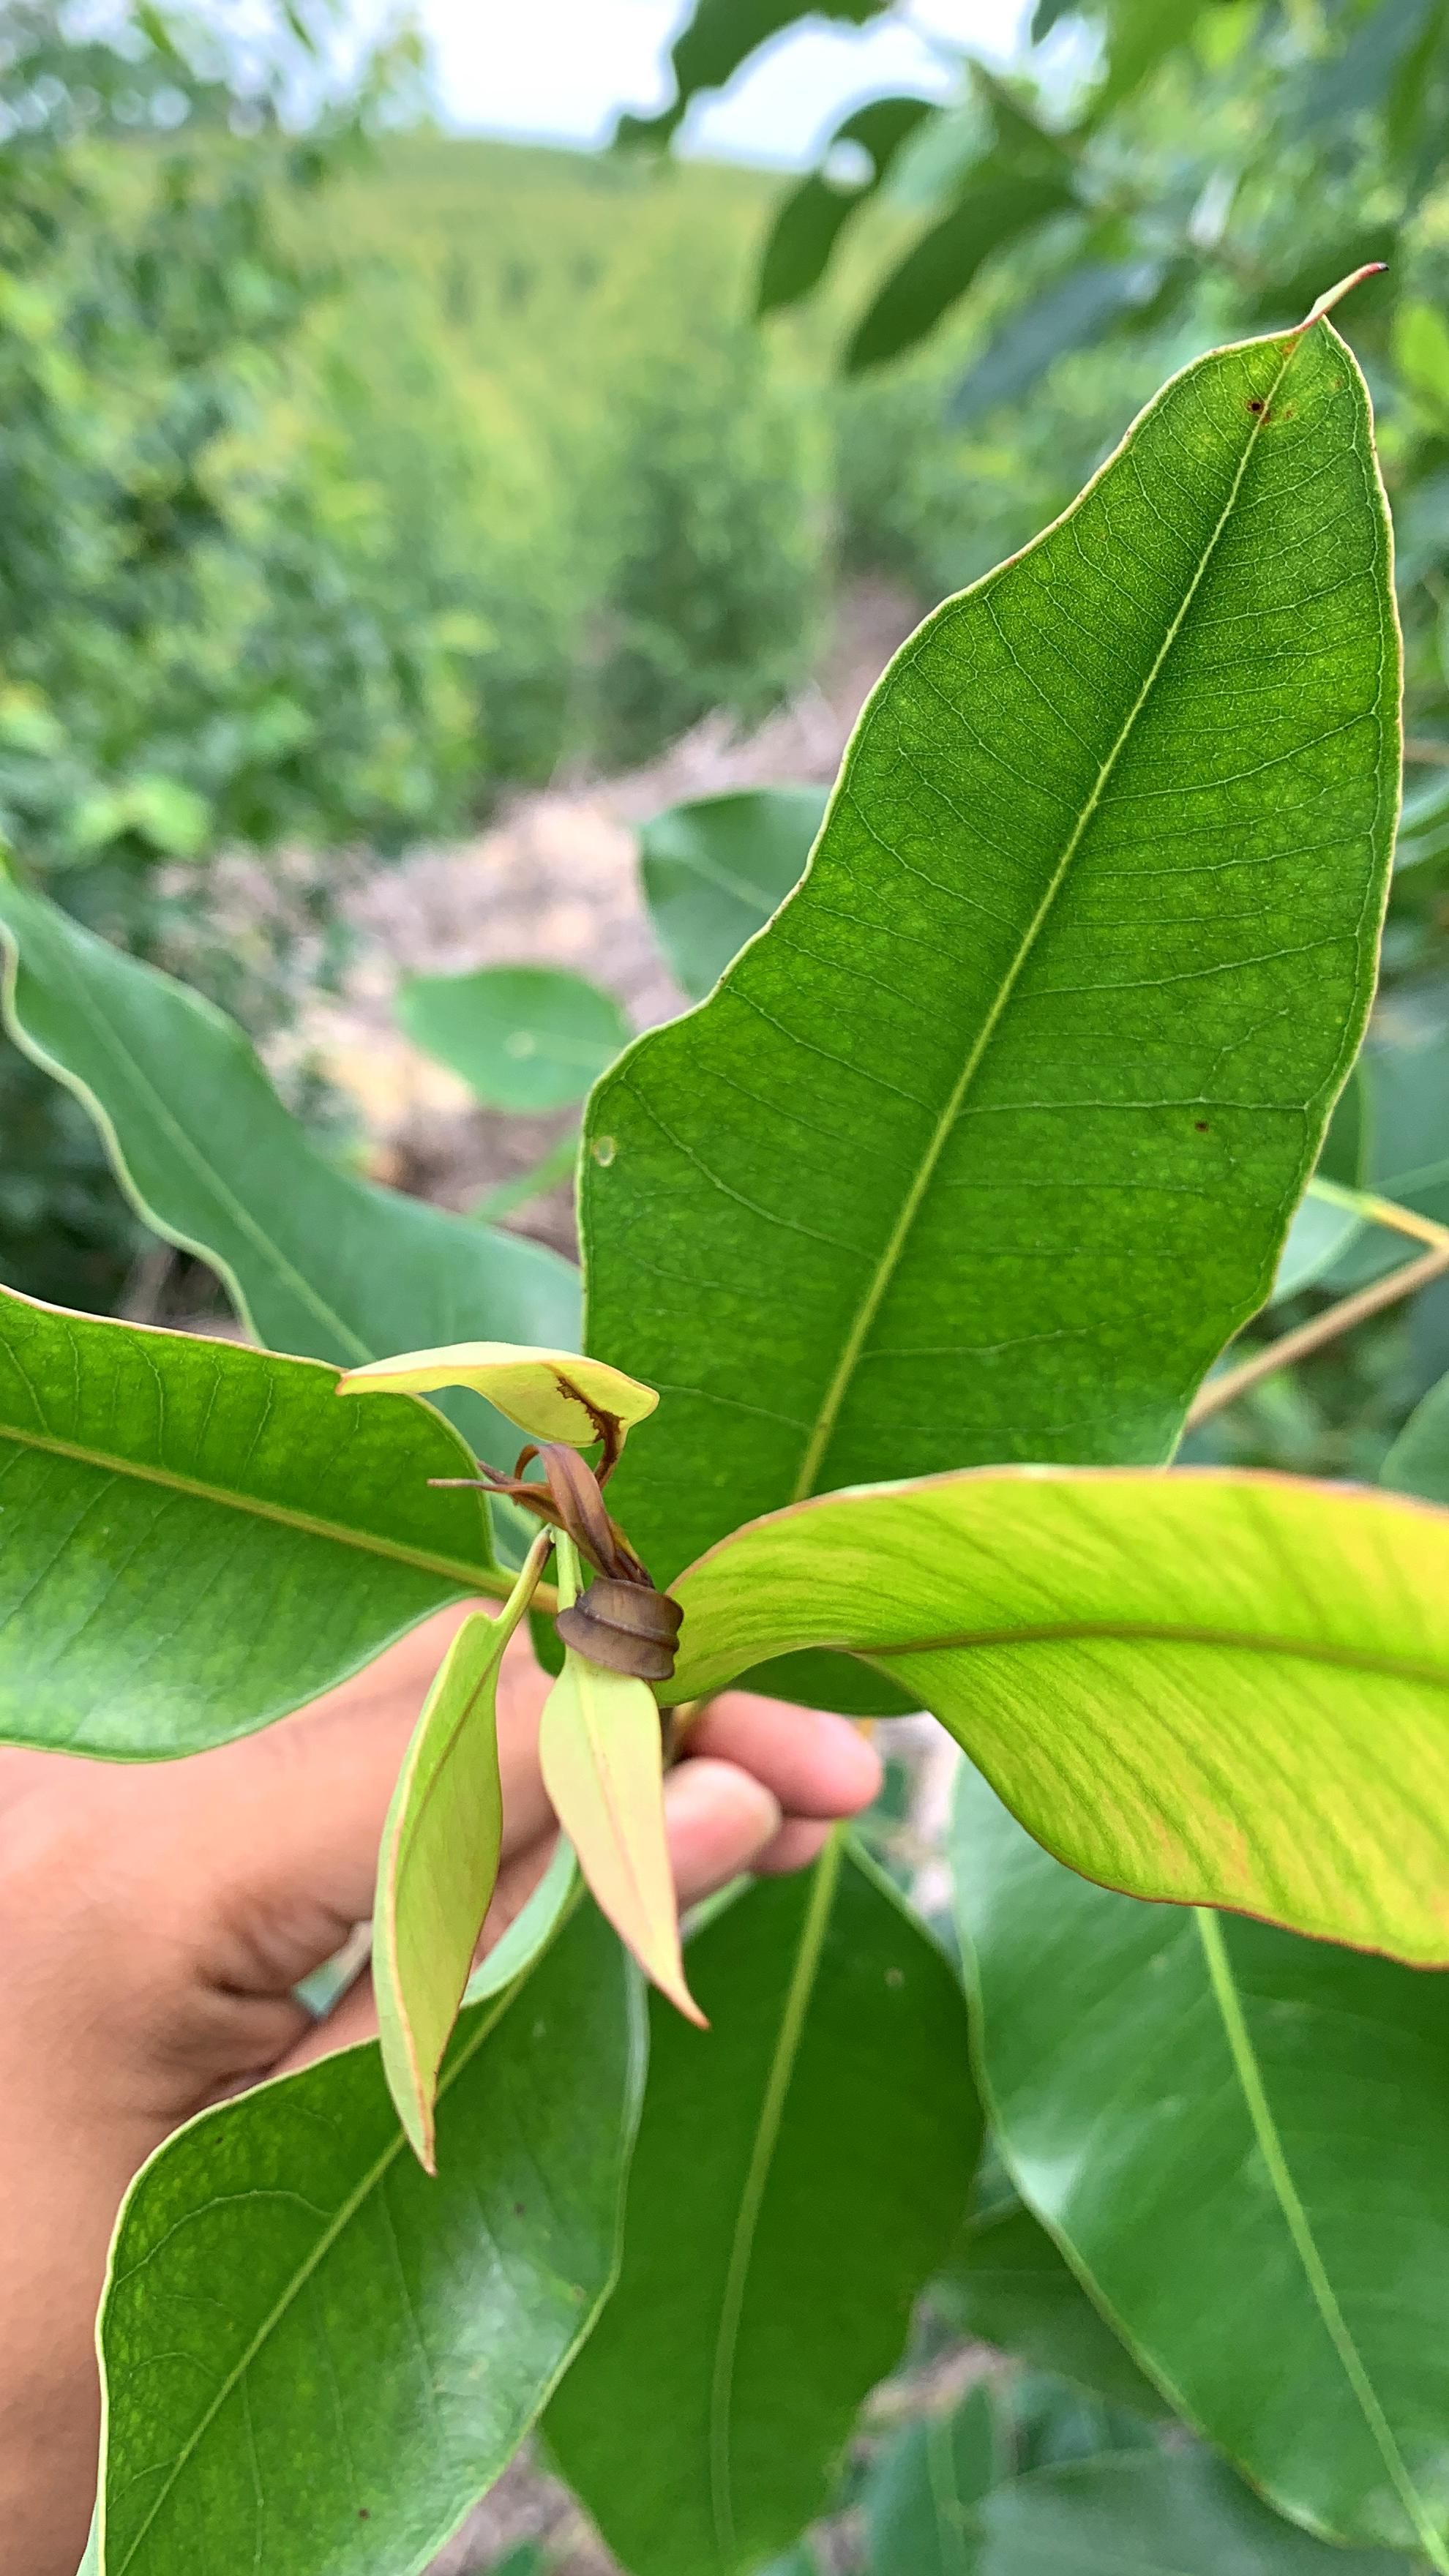Helopeltis-Withered Sprout: (483, 1424, 727, 1700)
